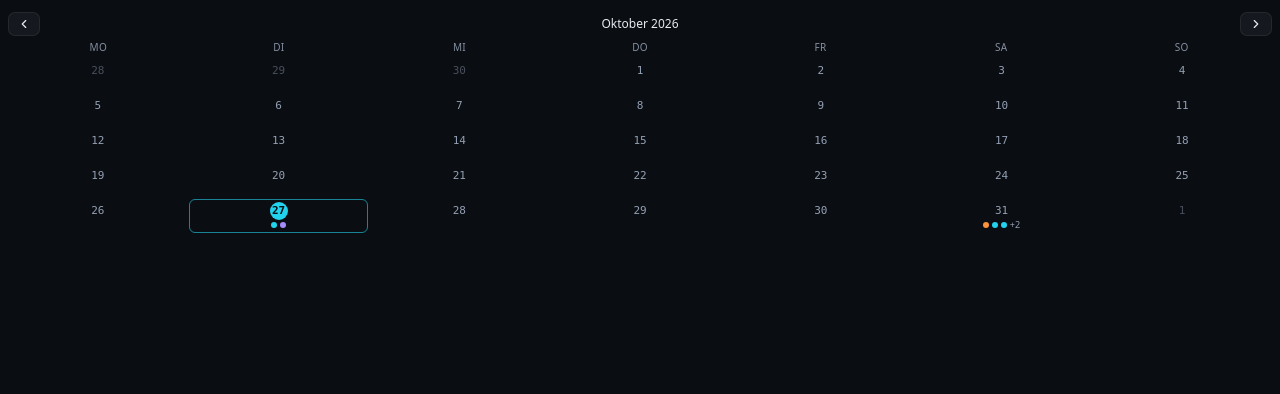
the month › pages to the next month and back, drops the picked day, and offers a way home
Expected: the button "Today" is not shown
What coordinates should you click on to do the following:
click the button "31 +2"
I would click on:
 (1001, 216)
Its box is [912, 198, 1091, 232].
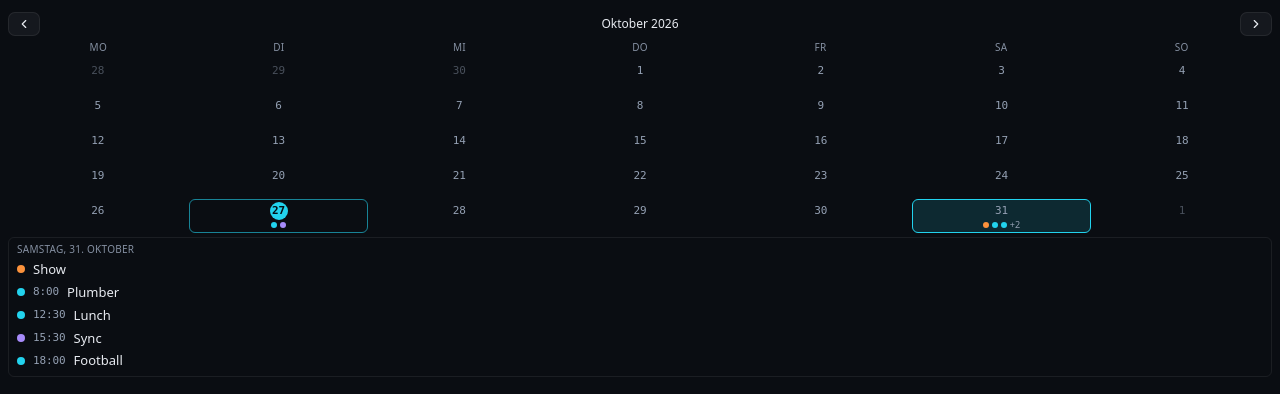
What coordinates should you click on to do the following:
click the button named "Next"
I would click on:
 (1256, 24)
Its box is [1240, 12, 1272, 36].
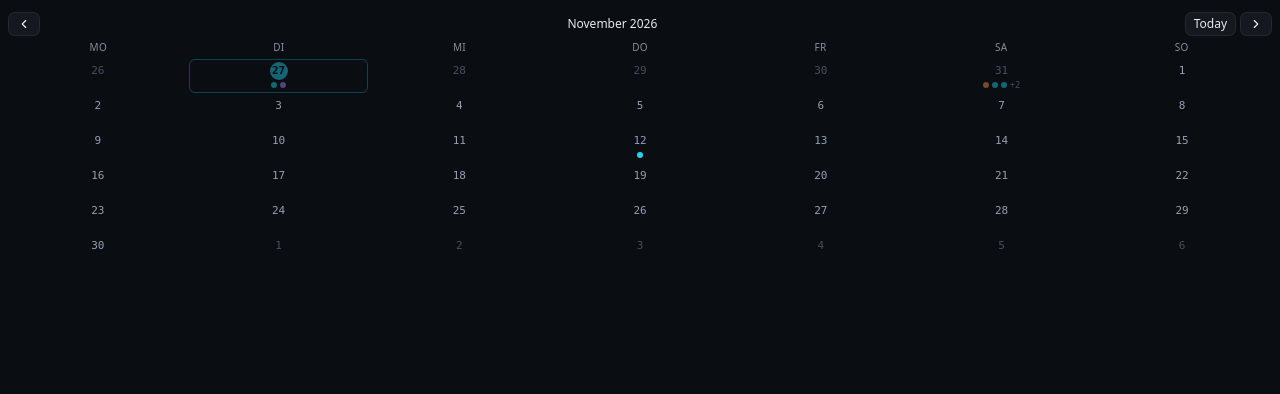
Expected: the text with test id "calendar-title" reads "November 2026", [567, 15, 657, 32]
Expected: the element with test id "calendar-picked" is gone
What coordinates should you click on to do the following:
click the button "Today"
I would click on:
 (1210, 24)
Its box is [1185, 12, 1236, 36].
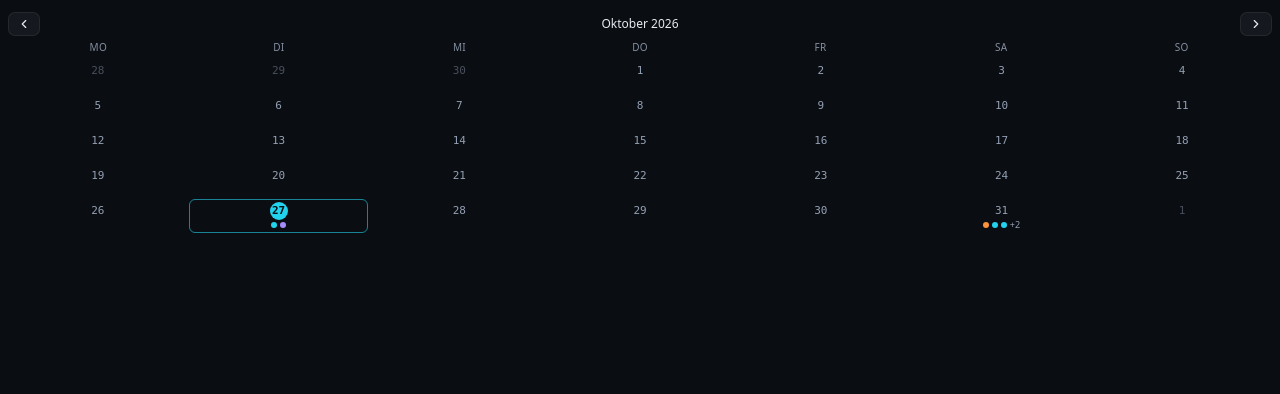
Expected: the text with test id "calendar-title" reads "Oktober 2026", [602, 15, 679, 32]
What coordinates should you click on to do the following:
click the button named "Previous"
I would click on:
 (24, 24)
Its box is [8, 12, 40, 36].
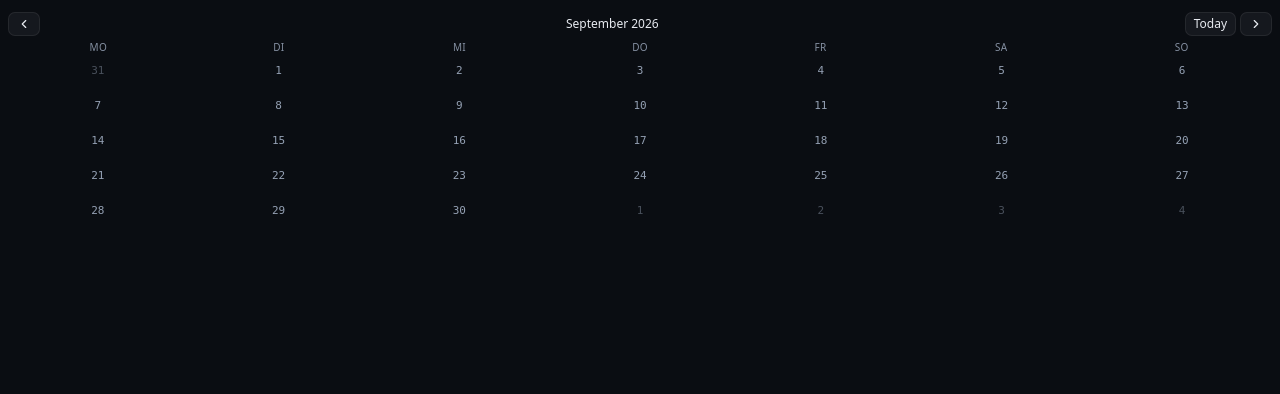
Expected: the text with test id "calendar-title" reads "September 2026", [566, 15, 659, 32]
